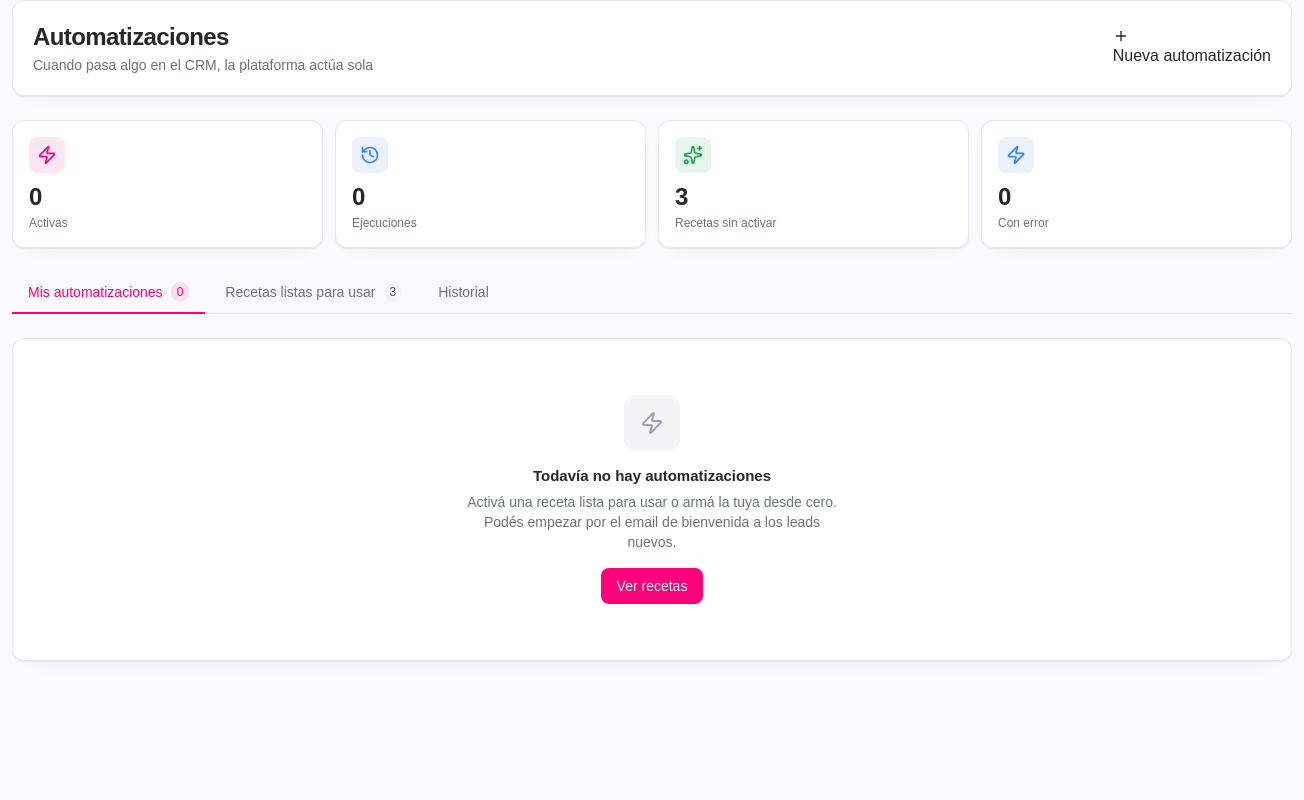
Test: Galería de recetas › busca por nombre y esconde las secciones que quedan vacías
Click the tab "Recetas listas para usar 3" at coordinates (314, 293), box [209,272,418,314]
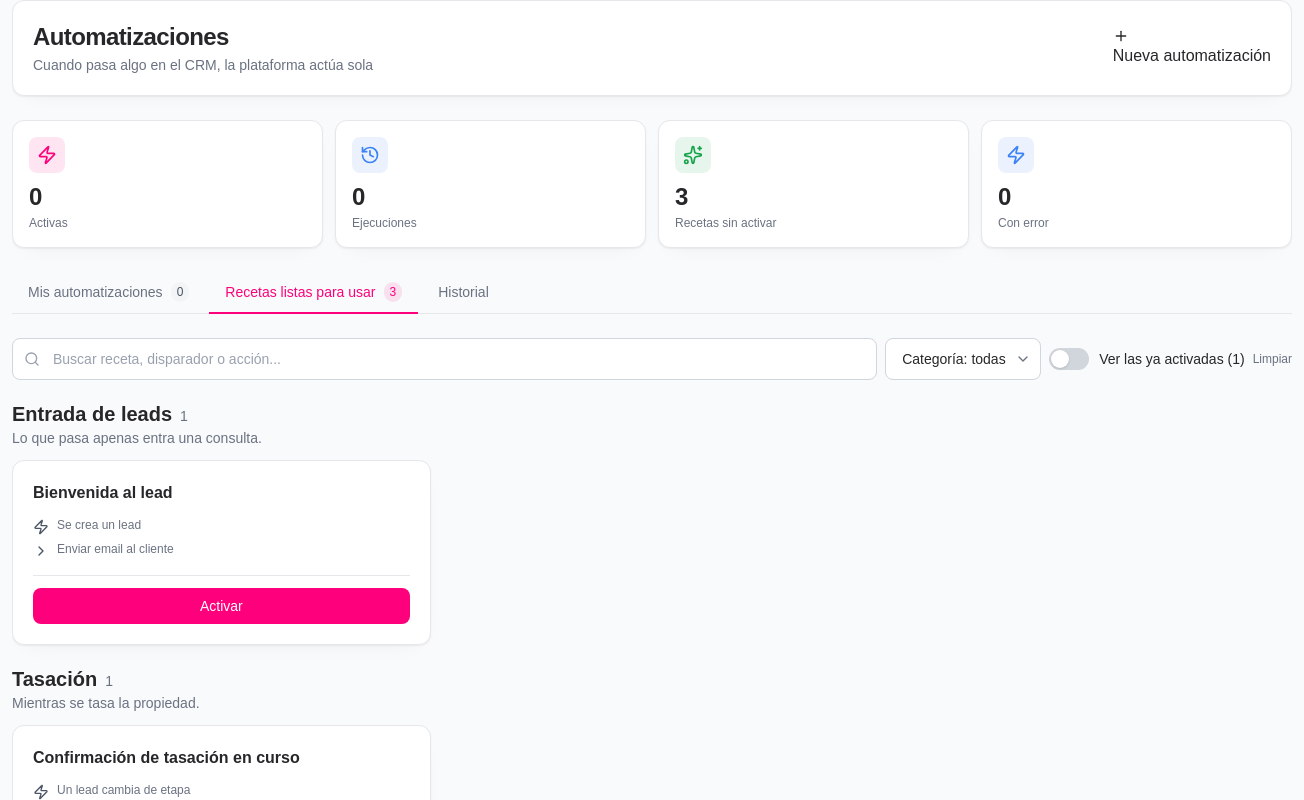
Type "tasación" into the field with placeholder "Buscar receta, disparador o acción..." at coordinates (445, 359), box [12,338,877,380]
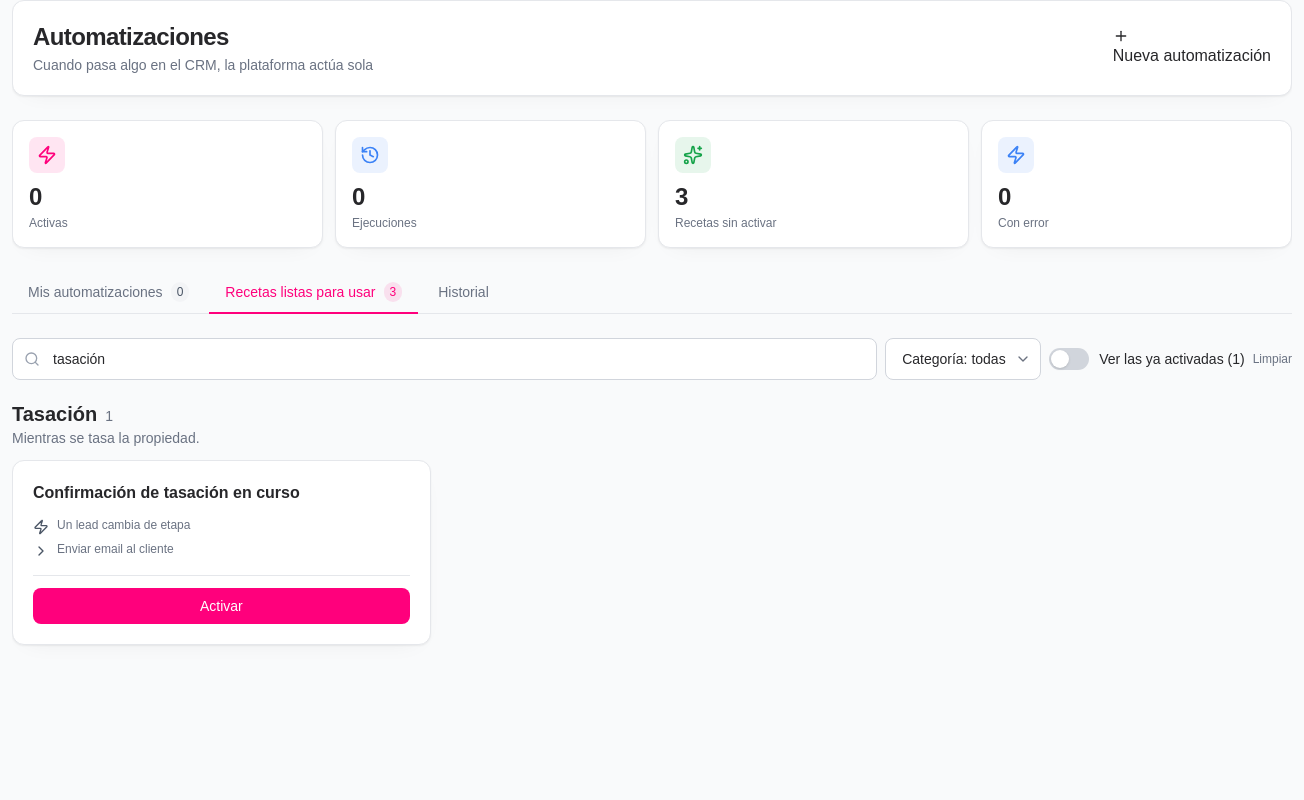
Now the heading "Confirmación de tasación en curso" is shown, box [33,481,300,505]
Now the heading "Bienvenida al lead" is gone
Now the headings read "Tasación", in this order, box [12,400,97,428]
